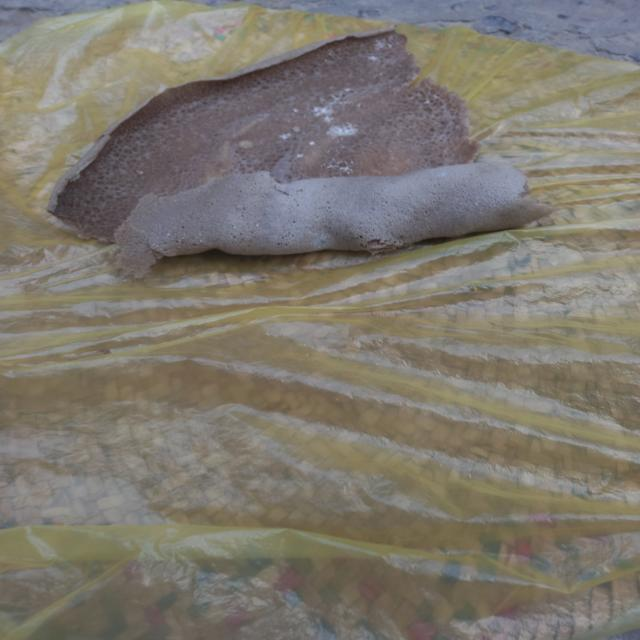injera_mold: (305, 221, 340, 249), (362, 36, 393, 63), (308, 102, 343, 125), (320, 154, 353, 176), (328, 125, 367, 140), (294, 148, 309, 164), (276, 128, 293, 142), (307, 138, 317, 148)
